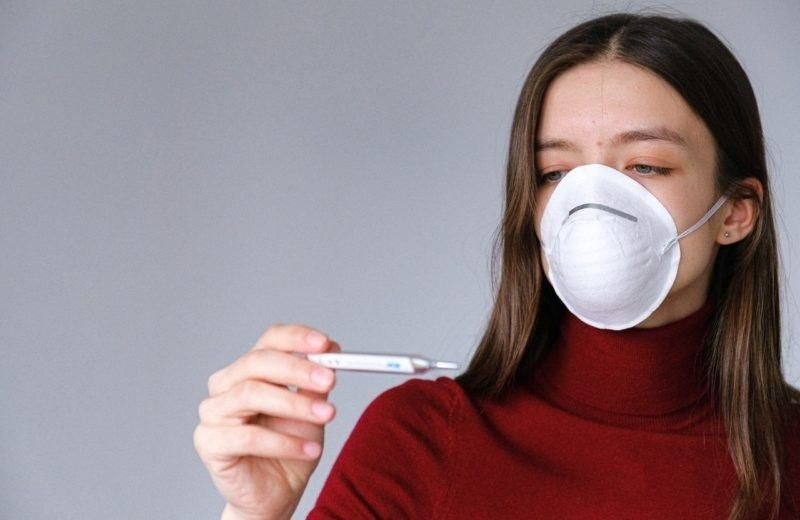face_with_mask: (516, 11, 772, 331)
